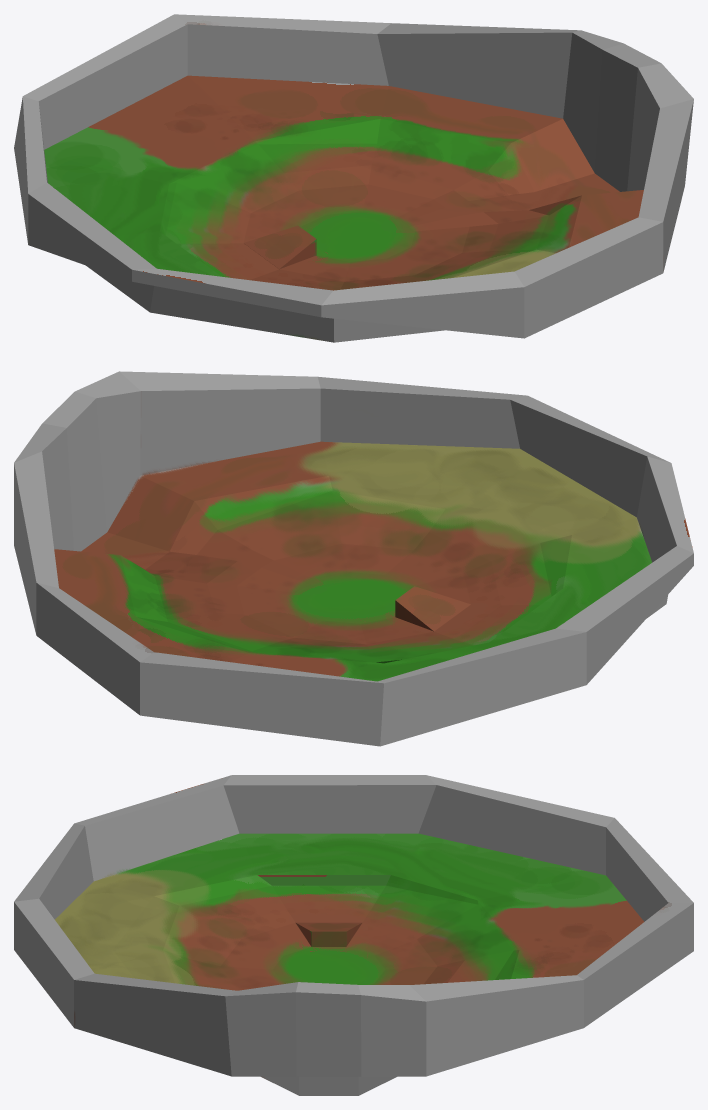
The model's file is test_level.glb.
3 renders of one model, top to bottom at view 1: azimuth 30°, elevation 25°; view 2: azimuth 150°, elevation 25°; view 3: azimuth 270°, elevation 25°, orthographic. The views are drawn at different scales.
Visible parts, largest first — view 1: Circle.003; view 2: Circle.003; view 3: Circle.003.
Boxes of the visible parts, x1=… form: Circle.003: x1=14, y1=14, x2=693, y2=342; Circle.003: x1=14, y1=371, x2=693, y2=746; Circle.003: x1=14, y1=775, x2=693, y2=1095.
Bounding box in the file's own units: 692 × 148 × 770.
1 material, 1 textured.
